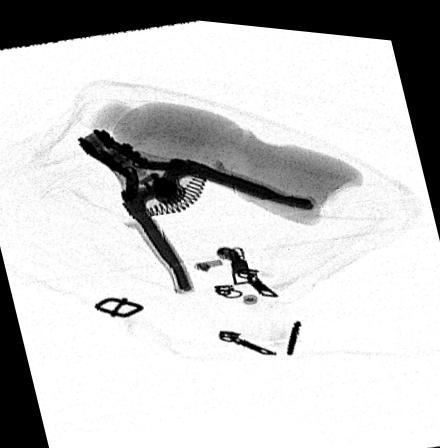Pliers: (74, 123, 313, 287)
